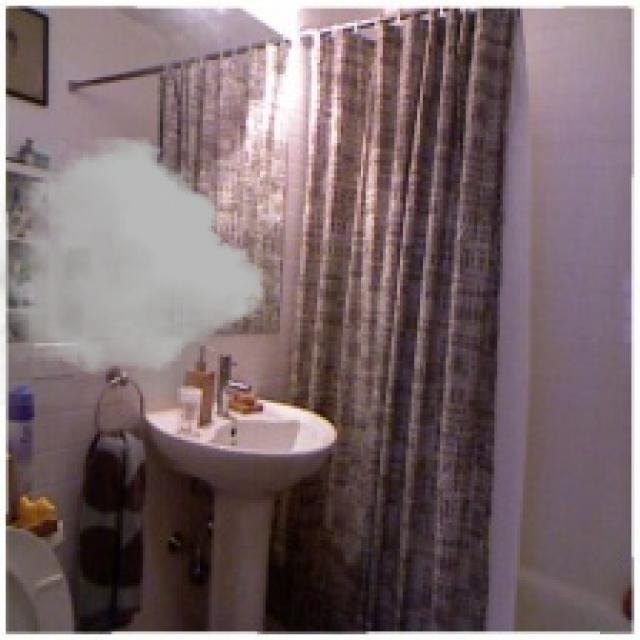Smoke: (0, 131, 266, 406)
